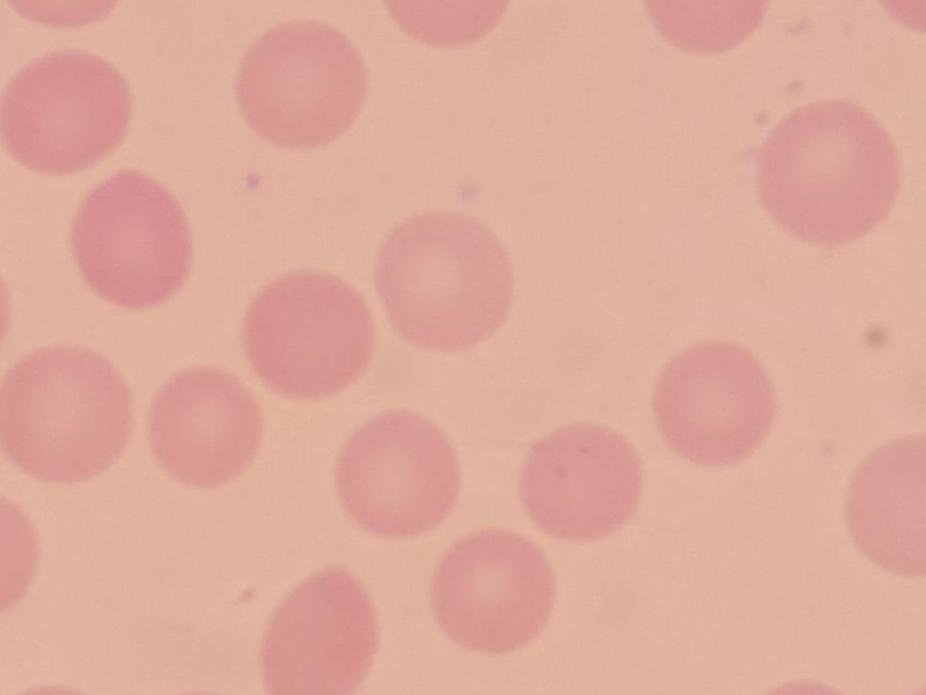Uninfected: (760, 99, 901, 246), (375, 212, 513, 354), (240, 271, 374, 405), (70, 169, 194, 310), (5, 349, 133, 484), (233, 22, 368, 150), (0, 49, 132, 173), (337, 409, 460, 542), (427, 531, 553, 656), (260, 567, 378, 695), (518, 421, 640, 540), (657, 344, 774, 468), (152, 369, 261, 487), (842, 432, 926, 582)
